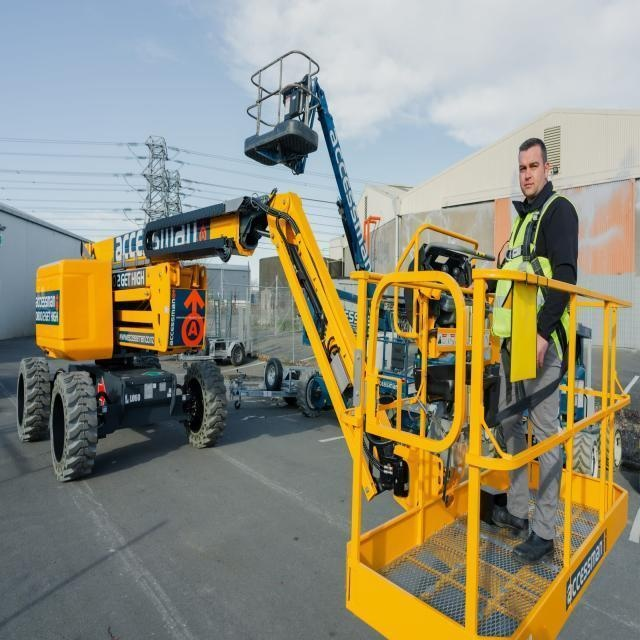Arnes_seguridad: (497, 193, 568, 421)
